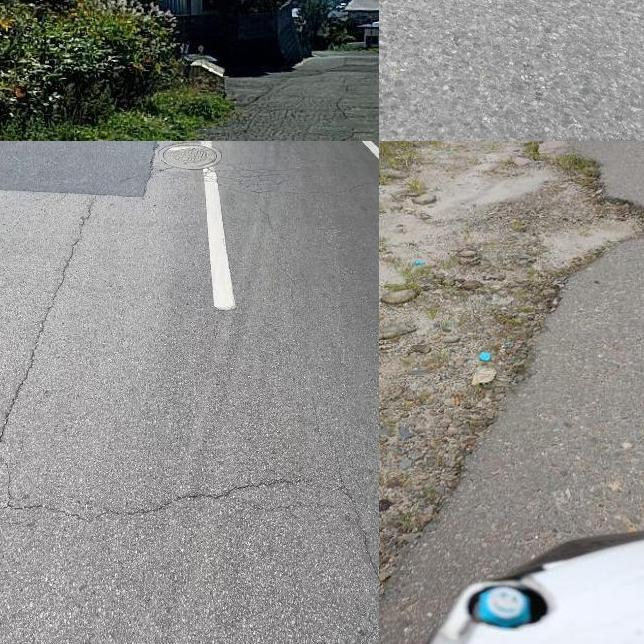Melintang: (0, 466, 336, 540)
Memanjang: (0, 195, 115, 496), (331, 475, 379, 644)
Pinggir: (379, 141, 644, 615)
Sambungan: (0, 141, 155, 196)
